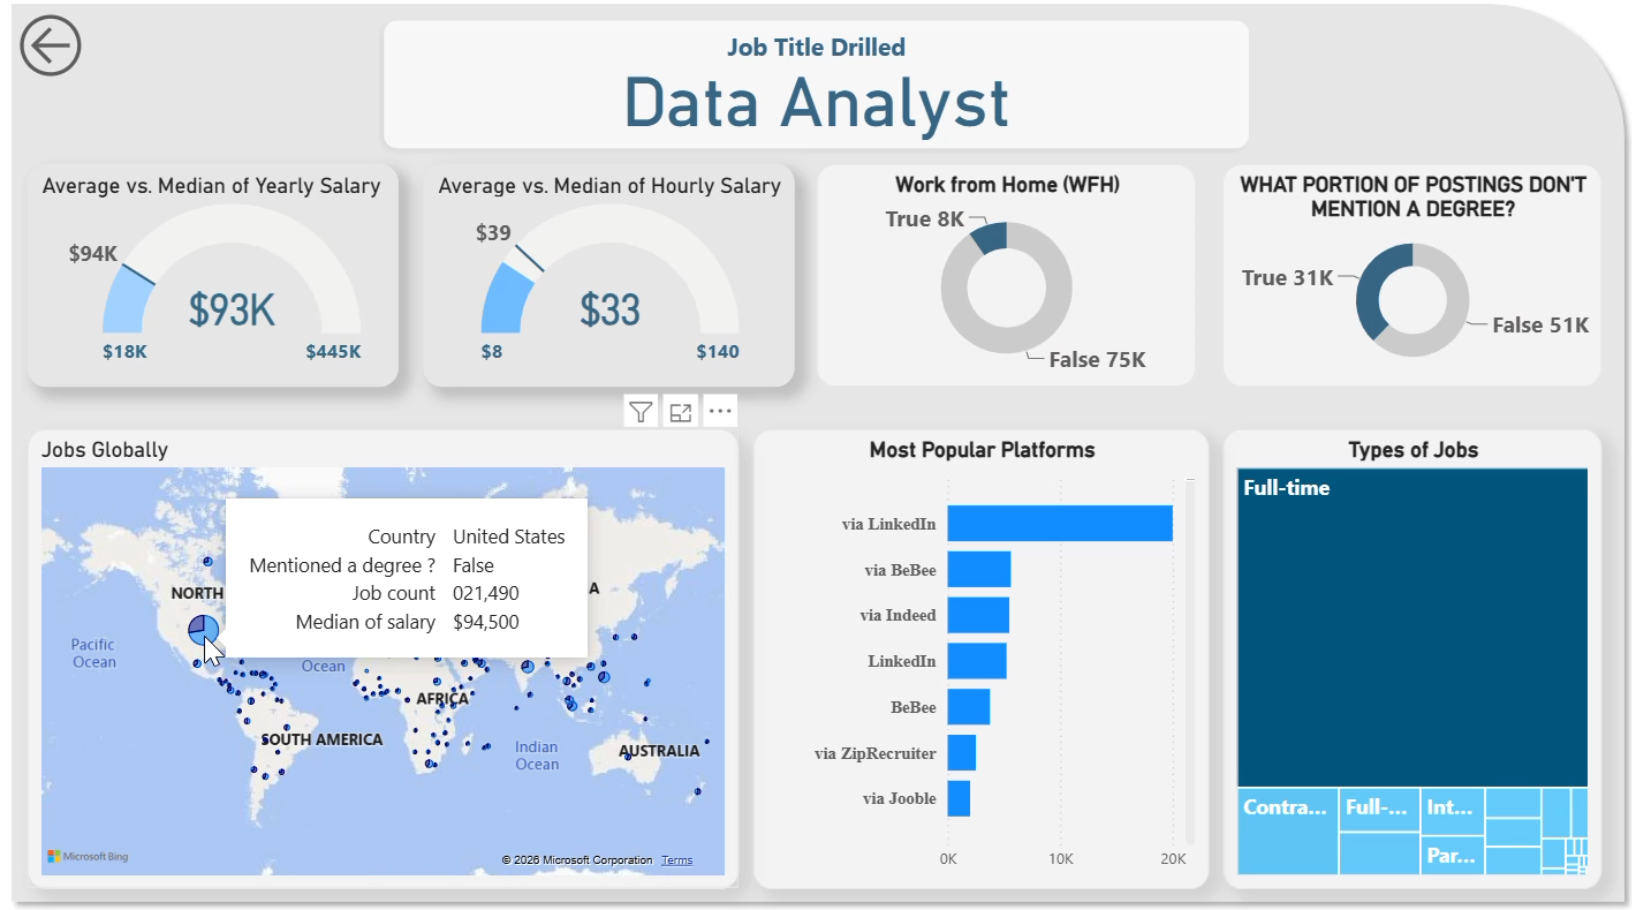

What the dashboard file says about the page in this screenshot:
{"tool":"powerbi","page":{"name":"job Title drill through","canvas":[1280,720],"ordinal":2},"visuals":[{"type":"shape","box":[0,0,1280.3,720.2],"z":0},{"type":"cardVisual","fields":{"Data":["Min(job_postings_flat.job_title_short)"]},"box":[288.6,10,701.4,124.3],"z":1000},{"type":"actionButton","box":[8.6,9.8,61.1,62.4],"z":2000},{"type":"gauge","title":"ِAverage vs. Median of Yearly Salary","fields":{"MaxValue":["Max(job_postings_flat.salary_year_avg)"],"MinValue":["Min(job_postings_flat.salary_year_avg)"],"TargetValue":["Avg(job_postings_flat.salary_year_avg)"],"Y":["Median(job_postings_flat.salary_year_avg)"]},"box":[21.4,134.3,290,174.3],"z":3000},{"type":"gauge","title":"Average vs. Median of Hourly Salary","fields":{"MaxValue":["Max(job_postings_flat.salary_hour_avg)2"],"MinValue":["Min(job_postings_flat.salary_hour_avg)1"],"TargetValue":["Avg(job_postings_flat.salary_hour_avg)3"],"Y":["Median(job_postings_flat.salary_hour_avg)"]},"box":[331.4,134.3,290,174.3],"z":4000},{"type":"donutChart","title":"Work from Home (WFH)","fields":{"Category":["job_postings_flat.job_work_from_home"],"Y":["CountNonNull(job_postings_flat.job_work_from_home)"]},"box":[638.6,134.3,297.1,174.3],"z":5000},{"type":"donutChart","title":"WHAT PORTION OF POSTINGS DON''T MENTION A DEGREE?","fields":{"Category":["job_postings_flat.job_no_degree_mention"],"Y":["CountNonNull(job_postings_flat.job_no_degree_mention)"]},"box":[957.1,134.3,297.1,174.3],"z":6000},{"type":"map","title":"Jobs Globally","fields":{"Category":["job_postings_flat.job_country"],"Series":["job_postings_flat.job_no_degree_mention"],"Size":["CountNonNull(job_postings_flat.job_title_short)"]},"box":[21.4,341.4,557.1,360],"z":7000},{"type":"treemap","title":"Types of Jobs","fields":{"Group":["job_postings_flat.job_schedule_type"],"Values":["CountNonNull(job_postings_flat.job_title_short)"]},"box":[957.1,341.4,297.1,360],"z":8000},{"type":"barChart","title":"Most Popular Platforms","fields":{"Category":["job_postings_flat.job_via"],"Y":["CountNonNull(job_postings_flat.job_via)"]},"box":[590,341.4,357.1,360],"z":9000}]}

Visuals, with their boxes in screenshot pixels (x1, y1, x2, y2), scaled from the page's 1280x720 canvas onto the 1632x910 screenshot:
shape: bbox=[0, 0, 1631, 909]
cardVisual - Min(job_postings_flat.job_title_short): bbox=[368, 13, 1262, 170]
actionButton: bbox=[11, 12, 89, 91]
"ِAverage vs. Median of Yearly Salary" gauge: bbox=[27, 170, 397, 390]
"Average vs. Median of Hourly Salary" gauge: bbox=[423, 170, 792, 390]
"Work from Home (WFH)" donutChart: bbox=[814, 170, 1193, 390]
"WHAT PORTION OF POSTINGS DON''T MENTION A DEGREE?" donutChart: bbox=[1220, 170, 1599, 390]
"Jobs Globally" map: bbox=[27, 431, 738, 886]
"Types of Jobs" treemap: bbox=[1220, 431, 1599, 886]
"Most Popular Platforms" barChart: bbox=[752, 431, 1208, 886]
